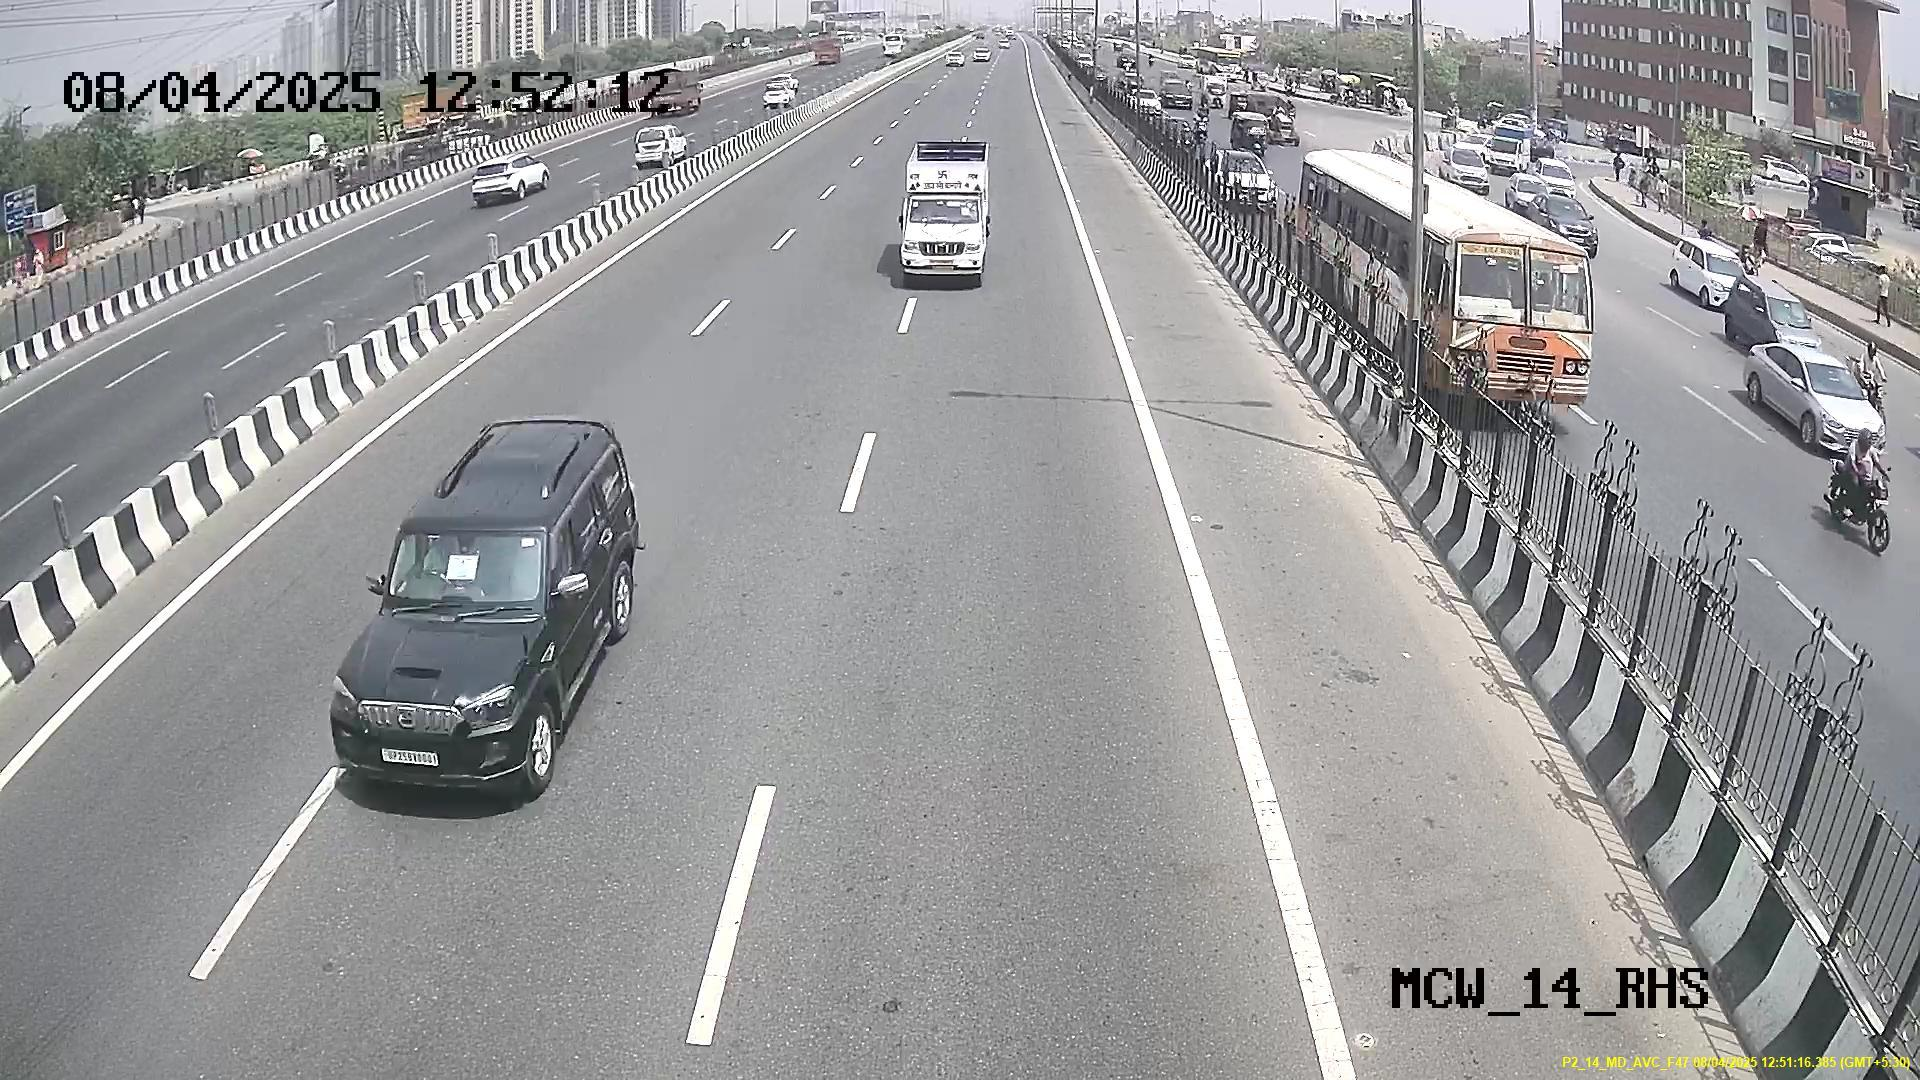car: (331, 506, 579, 802), (891, 170, 998, 284)
